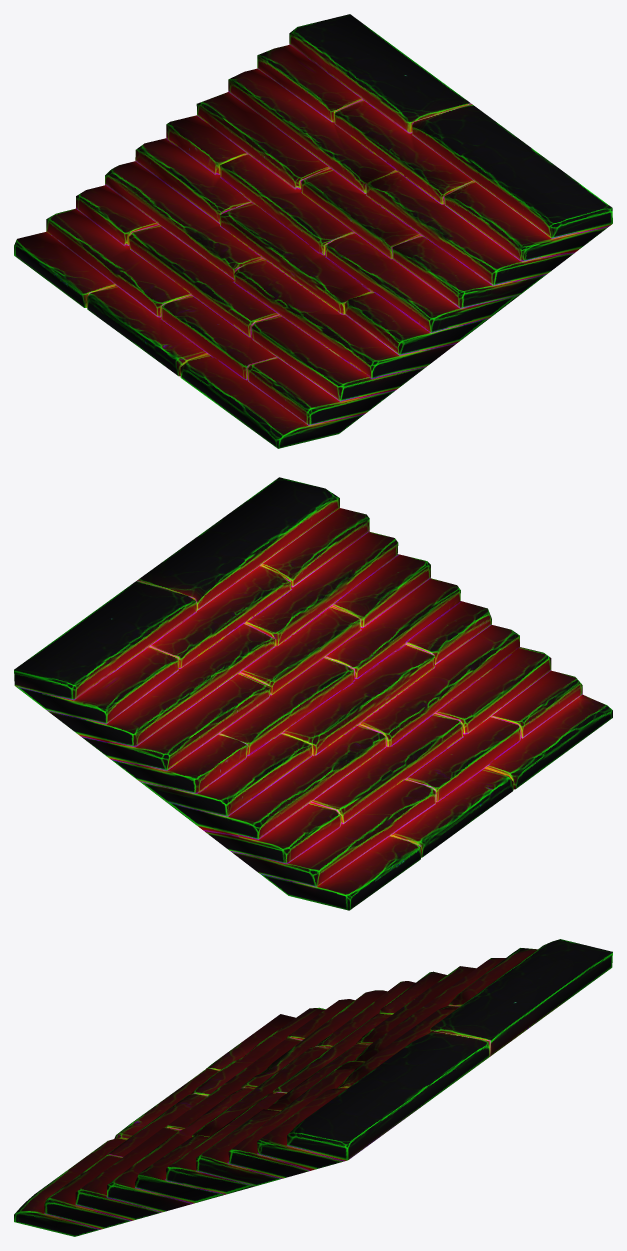
File: SM_Stairs.fbx
3 renders of one model, top to bottom at view 1: azimuth 30°, elevation 25°; view 2: azimuth 150°, elevation 25°; view 3: azimuth 330°, elevation 25°, orthographic.
Parts seen in each view (by area): view 1: SM_Stairs_LOD0; view 2: SM_Stairs_LOD0; view 3: SM_Stairs_LOD0.
Boxes of the visible parts, x1,y1,x2,y2 form: SM_Stairs_LOD0: (14, 14, 612, 448); SM_Stairs_LOD0: (14, 477, 612, 910); SM_Stairs_LOD0: (14, 939, 612, 1236).
Size of the model in its own units: 442 by 600 by 200.
1 material, 1 textured.
